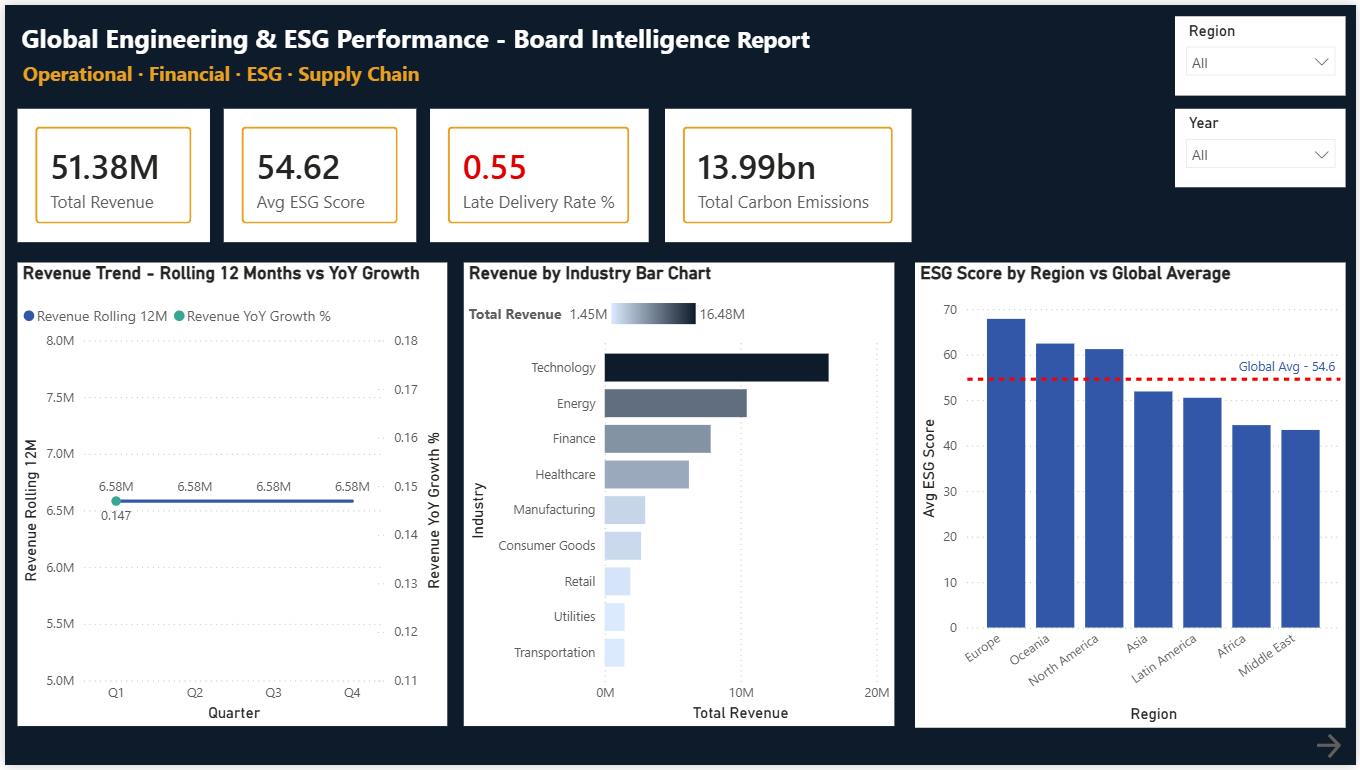

The page's visual inventory and layout, read from the dashboard file:
{"tool":"powerbi","page":{"name":"Executive Summary","canvas":[1280,720],"ordinal":0},"visuals":[{"type":"cardVisual","fields":{"Data":["Revenue & Financial Performance - A.Total Revenue"]},"box":[11.6,98.8,182.5,126.3],"z":0},{"type":"cardVisual","fields":{"Data":["ESG & Environmental Intelligence - B.Avg ESG Score"]},"box":[207,98.8,182.5,126.3],"z":1000},{"type":"cardVisual","fields":{"Data":["Supply Chain Operations - C.Late Delivery Rate %"]},"box":[402.3,98.8,207,126.7],"z":2000},{"type":"cardVisual","fields":{"Data":["ESG & Environmental Intelligence - B.Total Carbon Emissions"]},"box":[625.6,98.8,233.7,126.7],"z":3000},{"type":"slicer","fields":{"Values":["Dim_Date.Year"]},"box":[1108.1,98.8,161.6,74.4],"z":4000},{"type":"slicer","fields":{"Values":["Dim_Region.Region"]},"box":[1108.1,10.5,161.6,75.6],"z":5000},{"type":"textbox","box":[10.5,10.5,781.4,47.7],"z":6000},{"type":"textbox","box":[11.6,47.7,475.6,38.4],"z":7000},{"type":"lineChart","title":"Revenue Trend - Rolling 12 Months vs YoY Growth","fields":{"Category":["Dim_Date.Quarter"],"Y":["Revenue & Financial Performance - A.Revenue Rolling 12M"],"Y2":["Revenue & Financial Performance - A.Revenue YoY Growth %"]},"box":[11.8,244,407,439.5],"z":8000},{"type":"clusteredBarChart","title":"Revenue by Industry Bar Chart","fields":{"Category":["Dim_Industry.Industry"],"Y":["Revenue & Financial Performance - A.Total Revenue"]},"box":[434.6,244,408.1,439.5],"z":9000},{"type":"clusteredColumnChart","title":"ESG Score by Region vs Global Average","fields":{"Category":["Dim_Region.Region"],"Y":["ESG & Environmental Intelligence - B.Avg ESG Score"]},"box":[862.2,244,408.1,440.7],"z":10000},{"type":"actionButton","box":[1237.6,684.5,32,35.5],"z":11001}]}

Visuals, with their boxes in screenshot pixels (x1, y1, x2, y2), scaled from the page's 1280x720 canvas onto the 1360x770 screenshot:
cardVisual - Revenue & Financial Performance - A.Total Revenue: Rect(12, 106, 206, 241)
cardVisual - ESG & Environmental Intelligence - B.Avg ESG Score: Rect(220, 106, 414, 241)
cardVisual - Supply Chain Operations - C.Late Delivery Rate %: Rect(427, 106, 647, 241)
cardVisual - ESG & Environmental Intelligence - B.Total Carbon Emissions: Rect(665, 106, 913, 241)
slicer - Dim_Date.Year: Rect(1177, 106, 1349, 185)
slicer - Dim_Region.Region: Rect(1177, 11, 1349, 92)
textbox: Rect(11, 11, 841, 62)
textbox: Rect(12, 51, 518, 92)
"Revenue Trend - Rolling 12 Months vs YoY Growth" lineChart: Rect(13, 261, 445, 731)
"Revenue by Industry Bar Chart" clusteredBarChart: Rect(462, 261, 895, 731)
"ESG Score by Region vs Global Average" clusteredColumnChart: Rect(916, 261, 1350, 732)
actionButton: Rect(1315, 732, 1349, 769)
